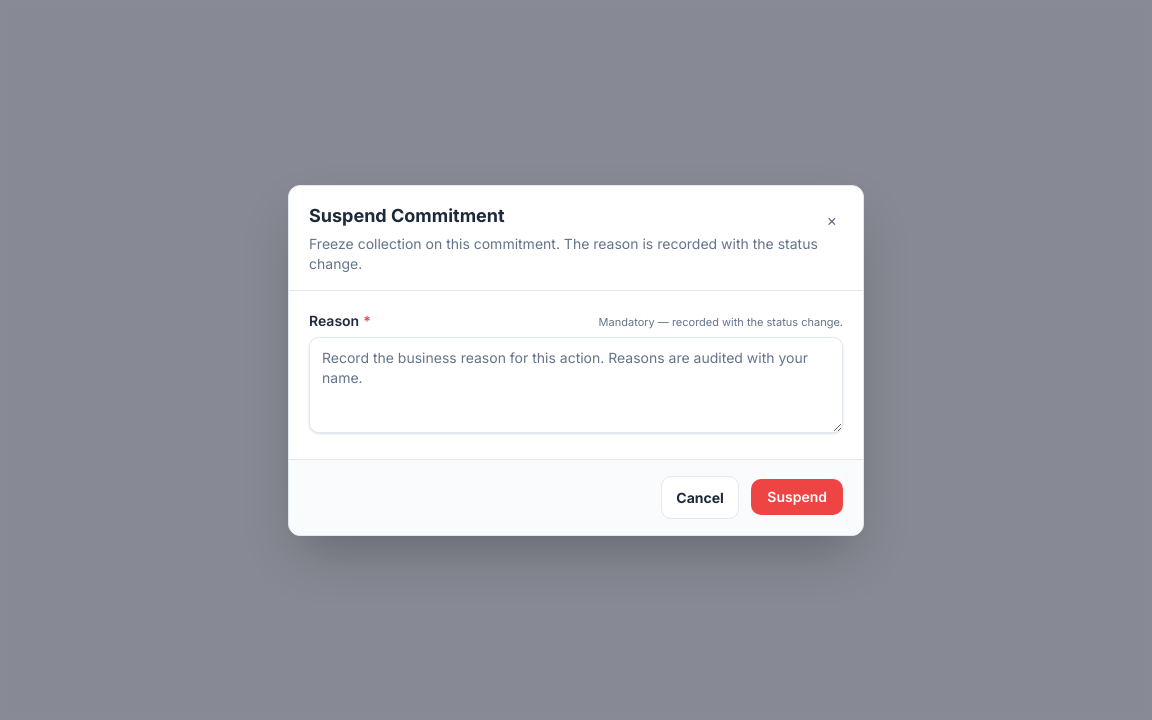
Test: LifecycleActionModal — validation per action › suspend requires a mandatory reason
The image size is (1152, 720).
Click the button "Suspend": point(797, 497) top-left (751, 479), bottom-right (843, 515)
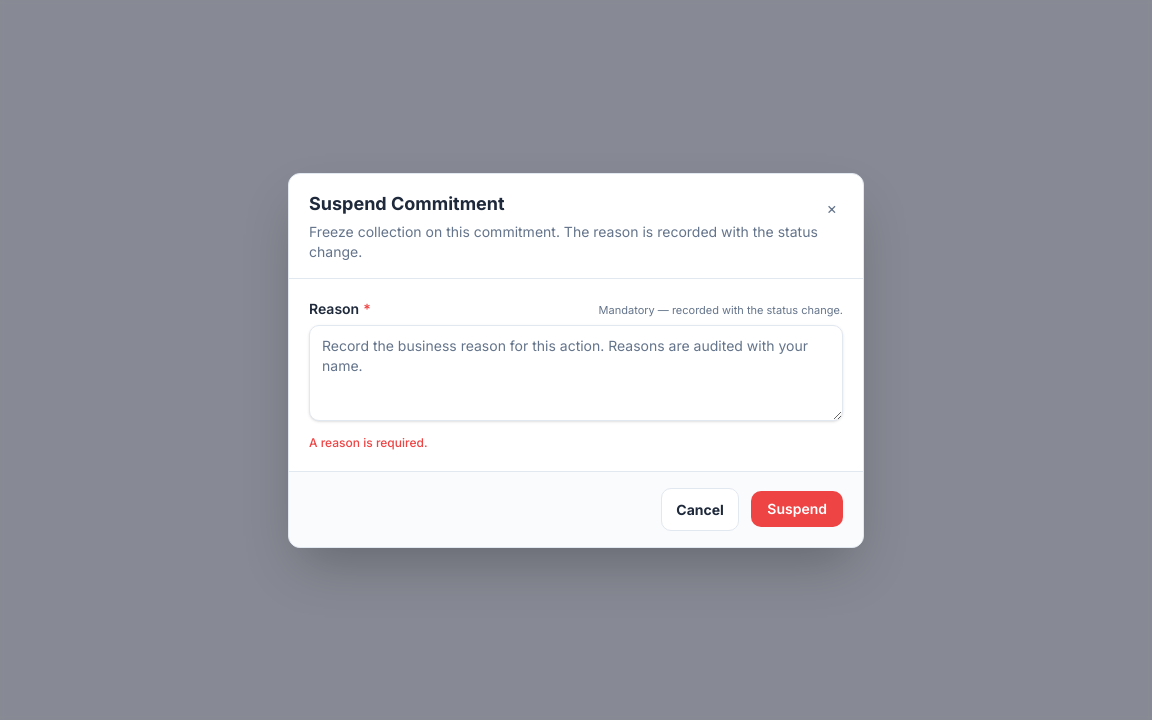
Result: the text "A reason is required." is shown at top-left (309, 434), bottom-right (428, 450)
